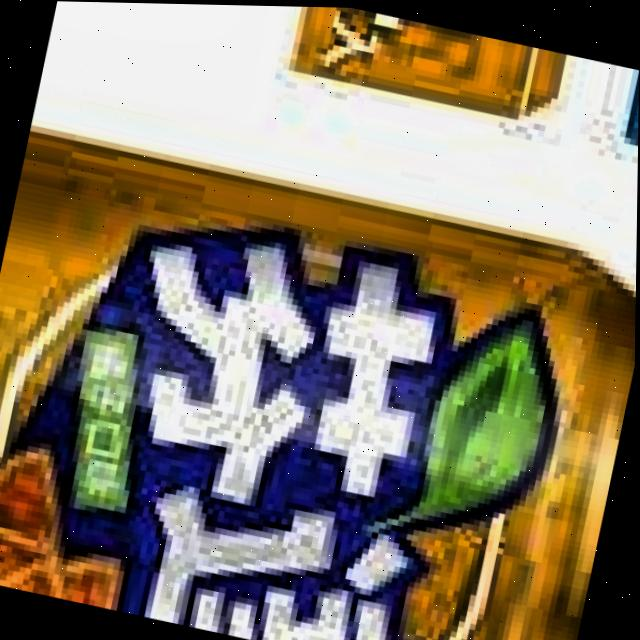metal: (0, 85, 639, 640)
